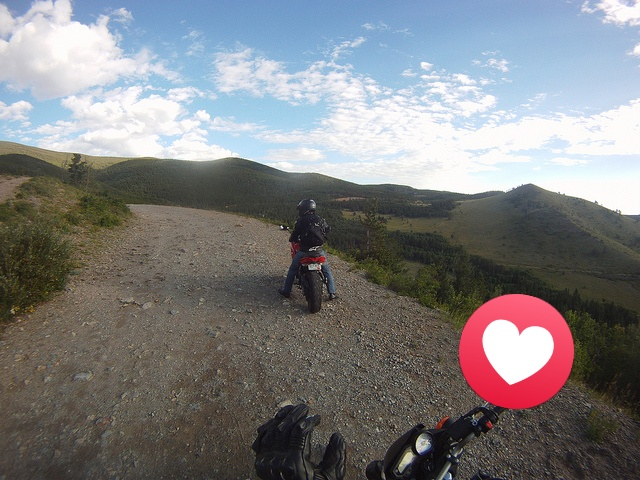love: (459, 294, 574, 409)
